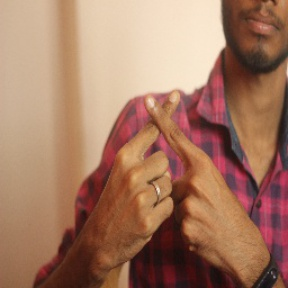X: (108, 81, 216, 190)
